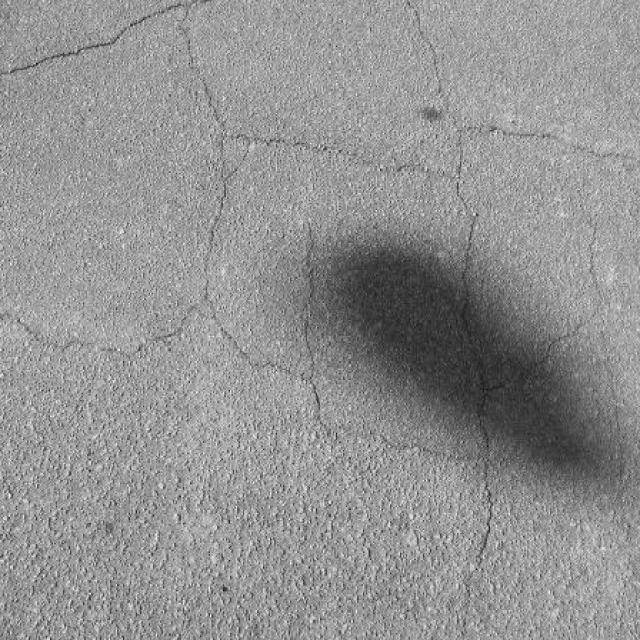Crack: (4, 2, 640, 638), (0, 1, 219, 117)
